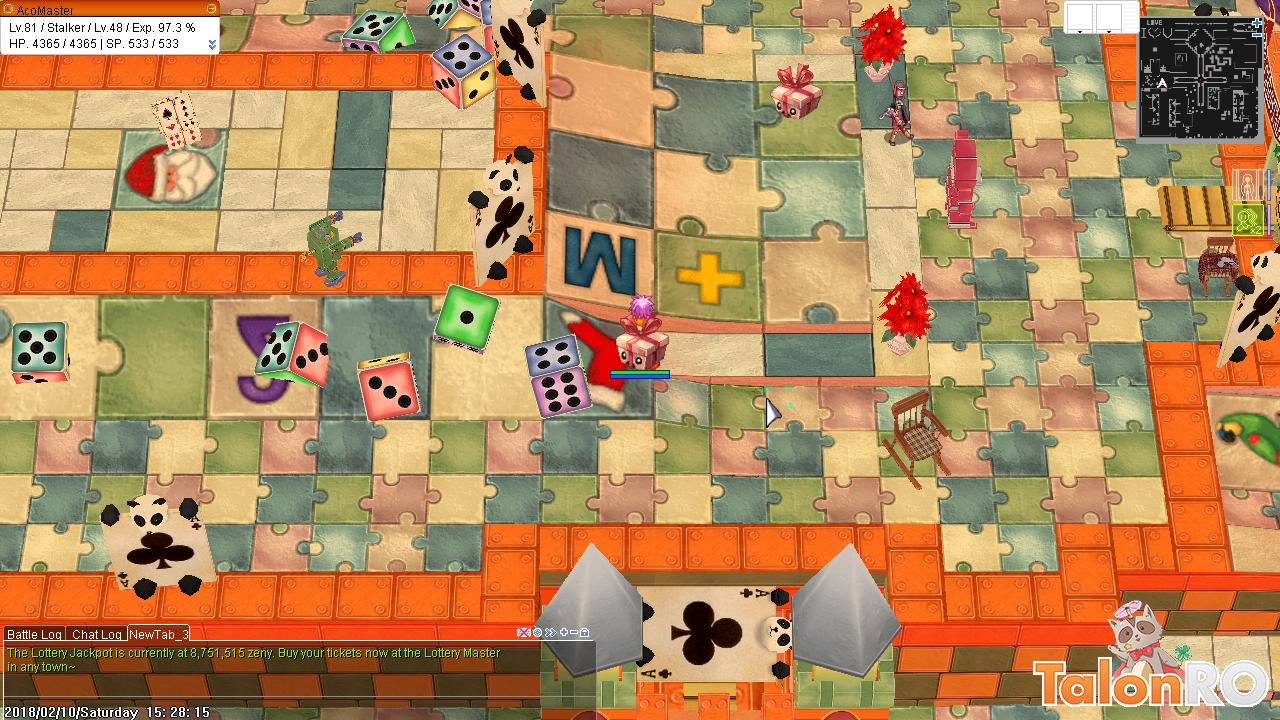mob: (877, 71, 921, 150)
myst_case: (614, 315, 675, 373), (767, 60, 823, 123)
